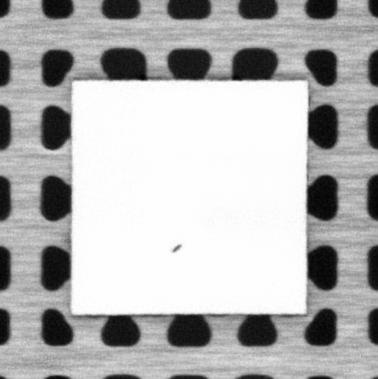DIE_INK: (171, 243, 183, 255)
